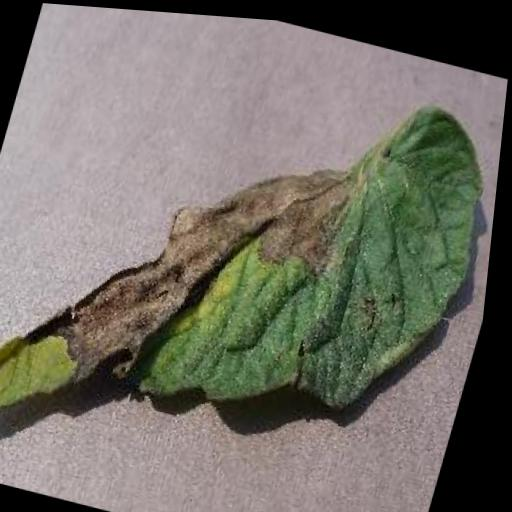Late Blight: (0, 10, 511, 512)
